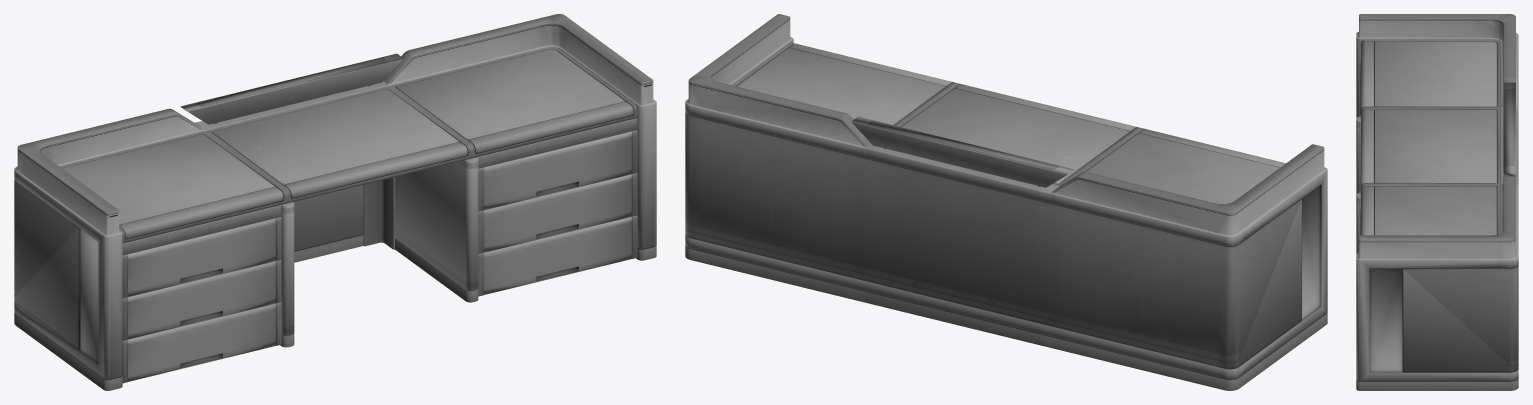
File: Desk2.fbx
The picture shows the model from 3 angles, left to right: view 1: azimuth 30°, elevation 25°; view 2: azimuth 150°, elevation 25°; view 3: azimuth 270°, elevation 25°; orthographic projection. The views are drawn at different scales.
Visible parts, largest first — view 1: SM_Desk_A_v3; view 2: SM_Desk_A_v3; view 3: SM_Desk_A_v3.
Part boxes in pixels (x1=…): SM_Desk_A_v3: x1=14, y1=14, x2=656, y2=390; SM_Desk_A_v3: x1=685, y1=14, x2=1327, y2=390; SM_Desk_A_v3: x1=1356, y1=14, x2=1518, y2=390.
Size of the model in its own units: 300 by 91.37 by 90.
